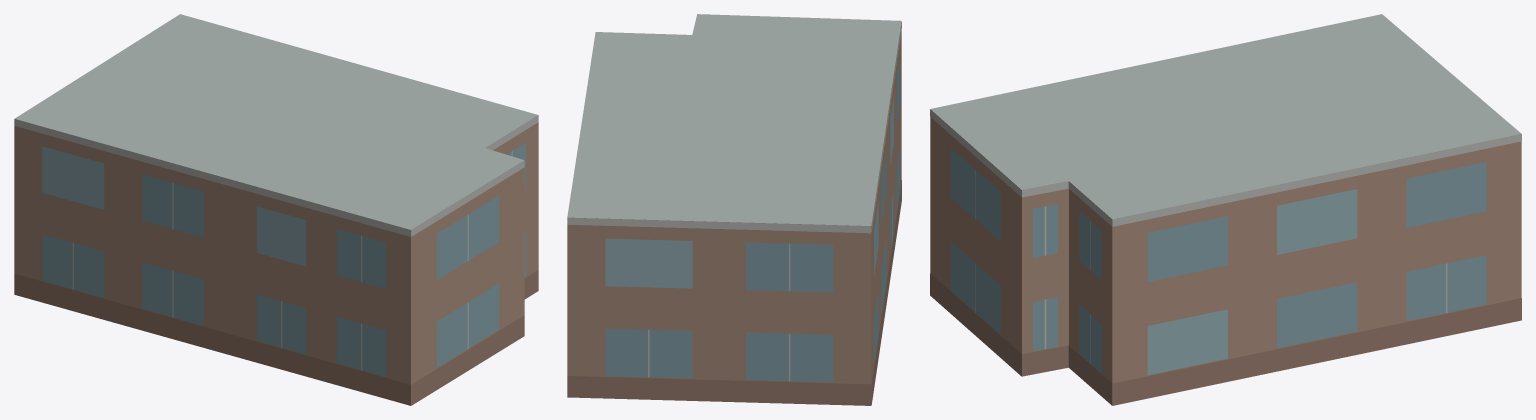
The model's file is survey-upis-32612626.glb.
3 renders of one model, left to right at view 1: azimuth 30°, elevation 25°; view 2: azimuth 150°, elevation 25°; view 3: azimuth 270°, elevation 25°, orthographic. The views are drawn at different scales.
Parts seen in each view (by area): view 1: survey-upis-32612626.tmp; view 2: survey-upis-32612626.tmp; view 3: survey-upis-32612626.tmp.
Part boxes in pixels (x1,y1,x2,y2): survey-upis-32612626.tmp: [14, 14, 538, 405]; survey-upis-32612626.tmp: [567, 14, 901, 405]; survey-upis-32612626.tmp: [930, 14, 1521, 405].
Bounding box in the file's own units: 14.42 × 6.1 × 17.55.
